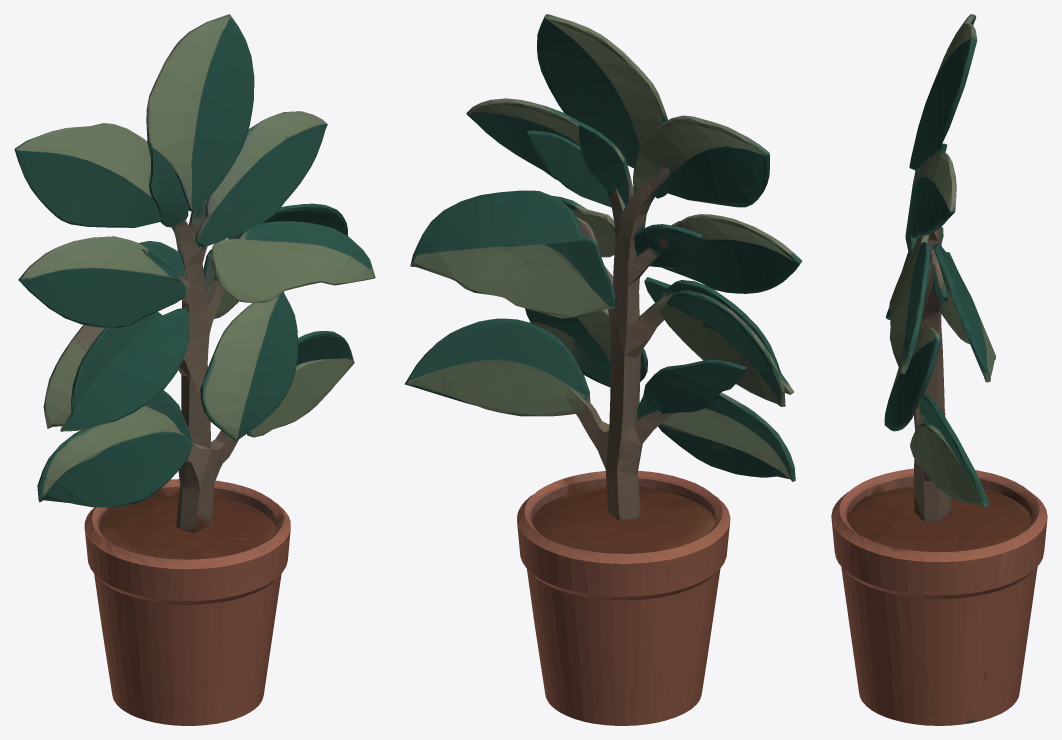
The model's file is potted_plant_a.glb.
The picture shows the model from 3 angles, left to right: view 1: azimuth 30°, elevation 25°; view 2: azimuth 150°, elevation 25°; view 3: azimuth 270°, elevation 25°; orthographic projection. The views are drawn at different scales.
Parts seen in each view (by area): view 1: potted_plant_a; view 2: potted_plant_a; view 3: potted_plant_a.
Boxes of the visible parts, box(x1,y1,x2,y2) form: potted_plant_a: box(14, 14, 375, 725); potted_plant_a: box(404, 14, 802, 725); potted_plant_a: box(831, 14, 1047, 725).
Bounding box in the file's own units: 0.5717 × 1 × 0.2848.
Materials: 1 (1 with a texture image).
